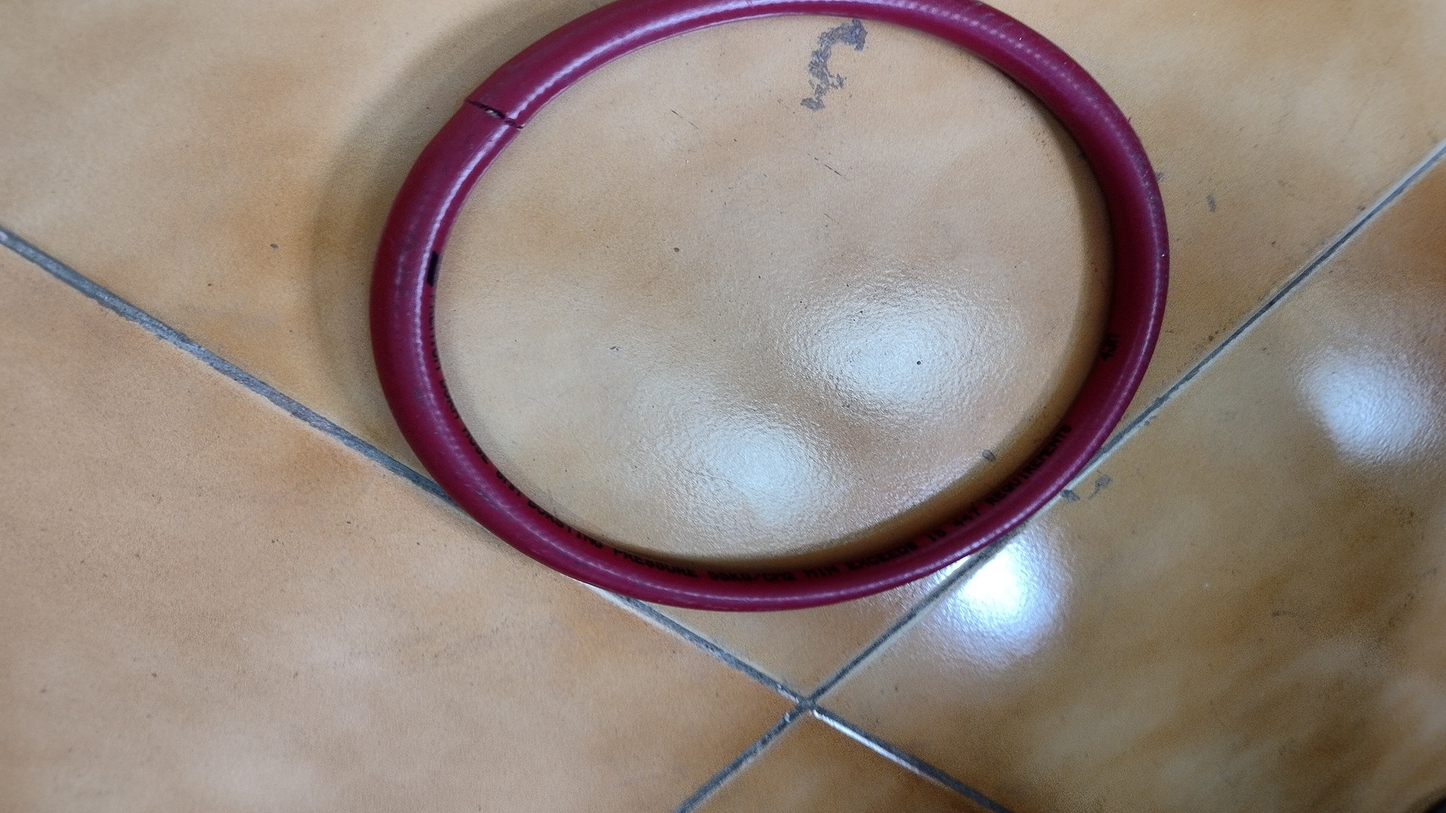Red ring: (368, 6, 1175, 611)
